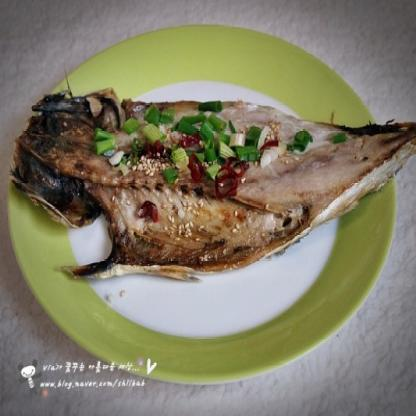Peixe: (4, 82, 416, 298)
